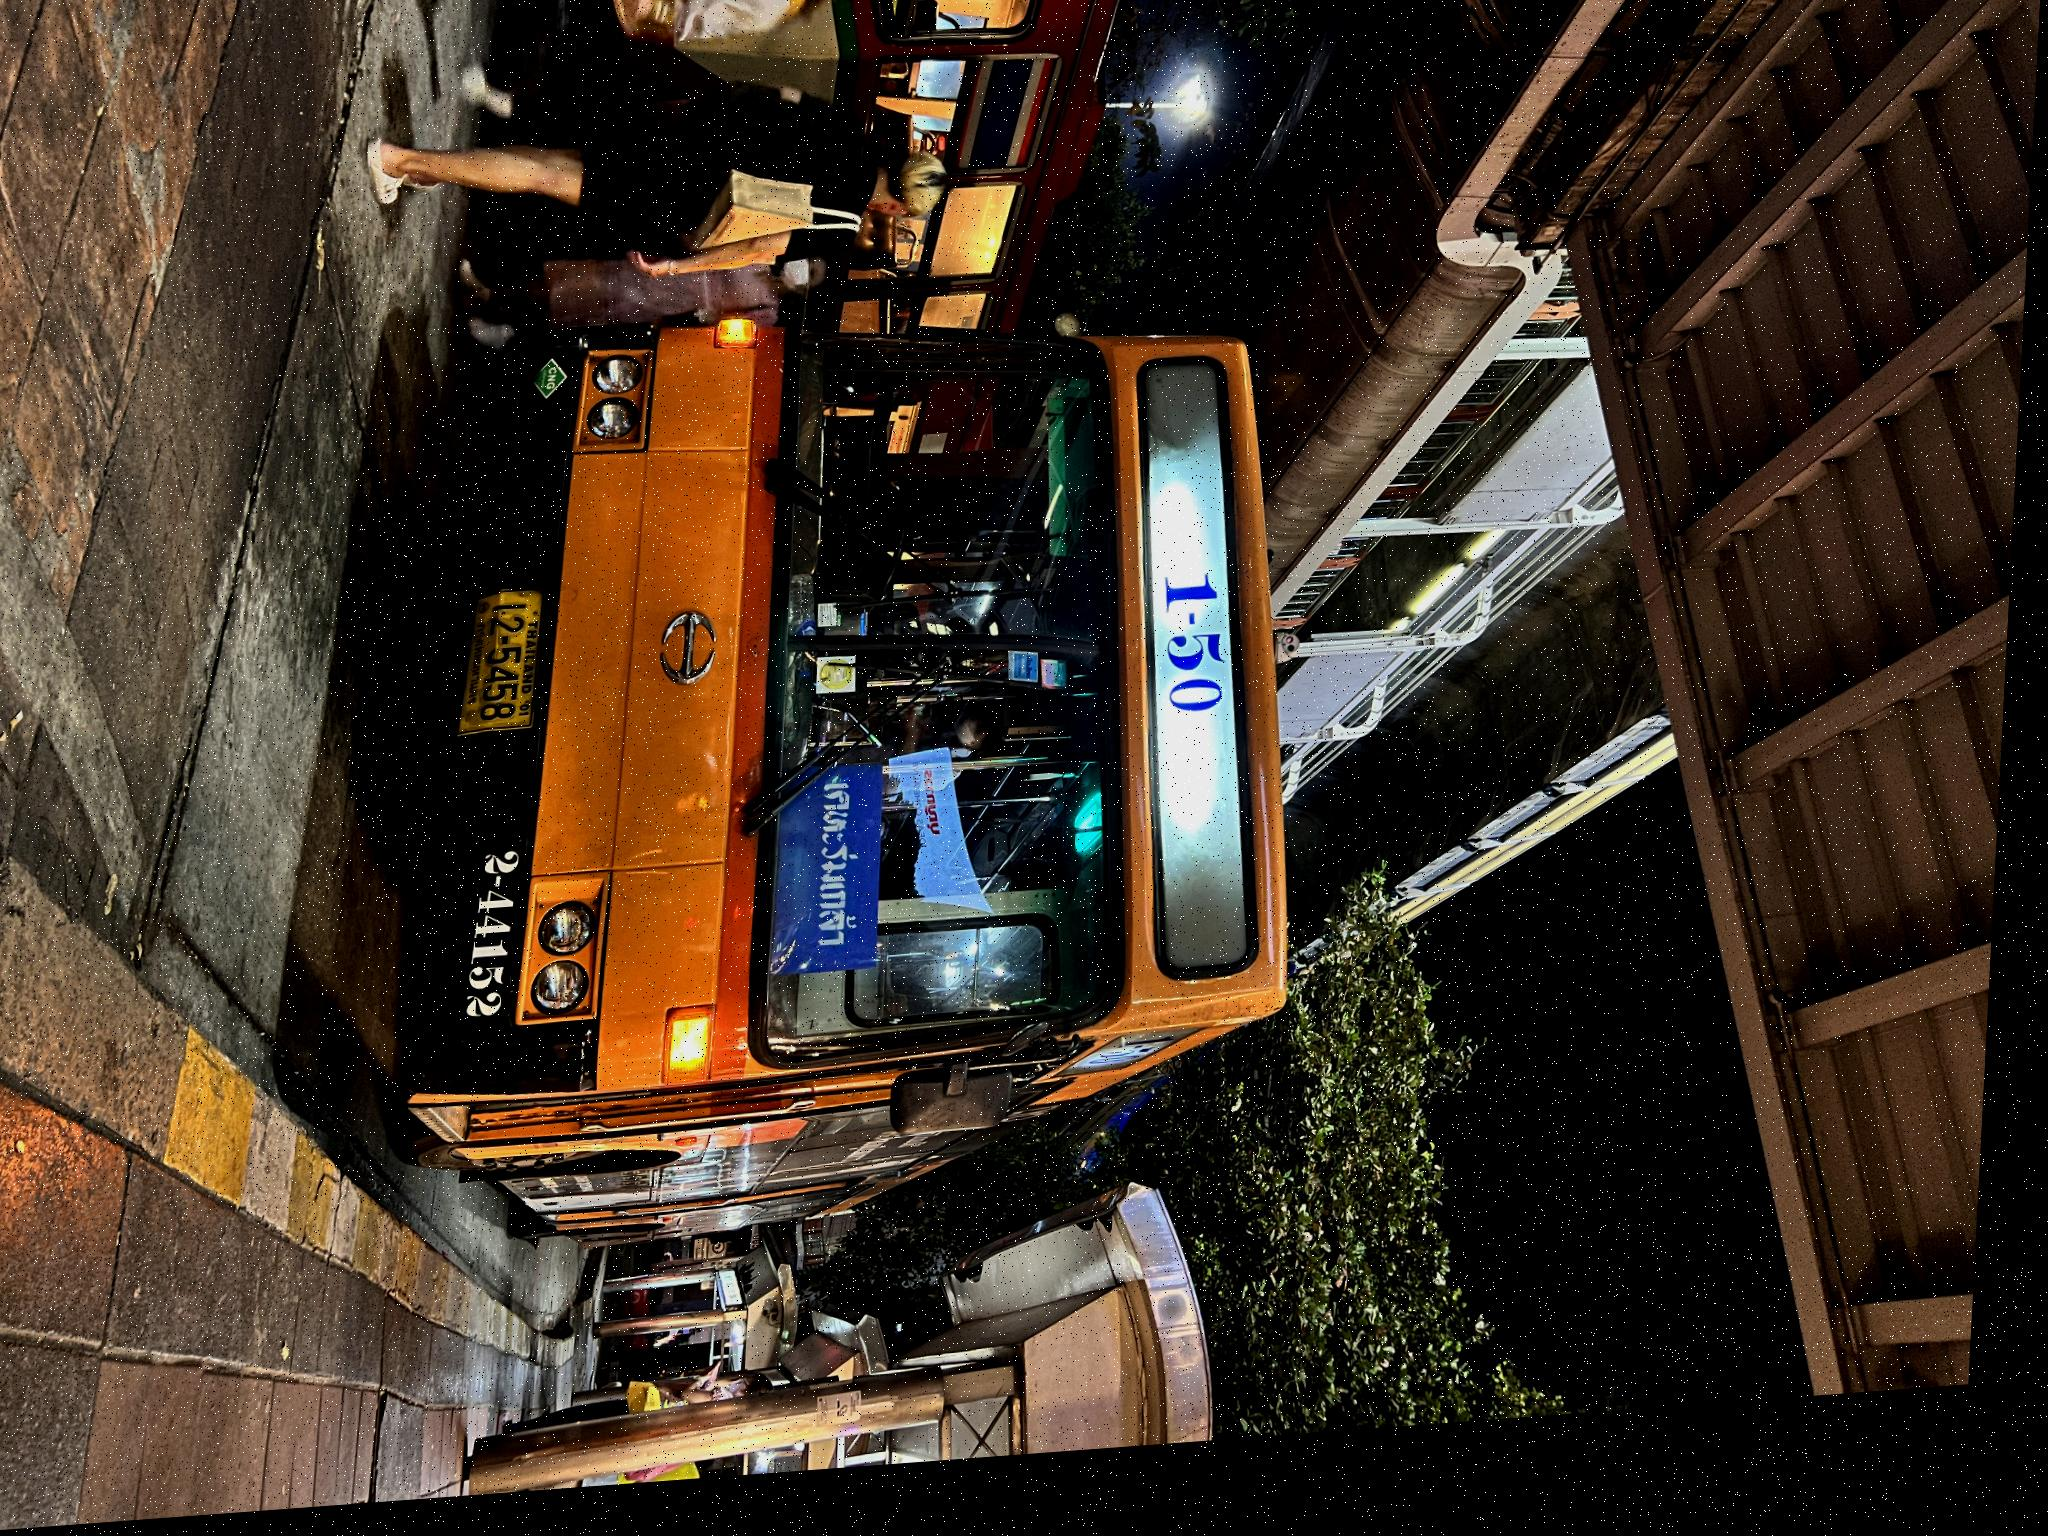BMTA-bus: (256, 644, 1243, 1501)
Bus Line Number: (614, 734, 784, 818)
Bus Side Number: (810, 1410, 1006, 1486)
Destination Sign: (780, 1057, 992, 1176)
